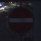No entry: (6, 5, 36, 36)
